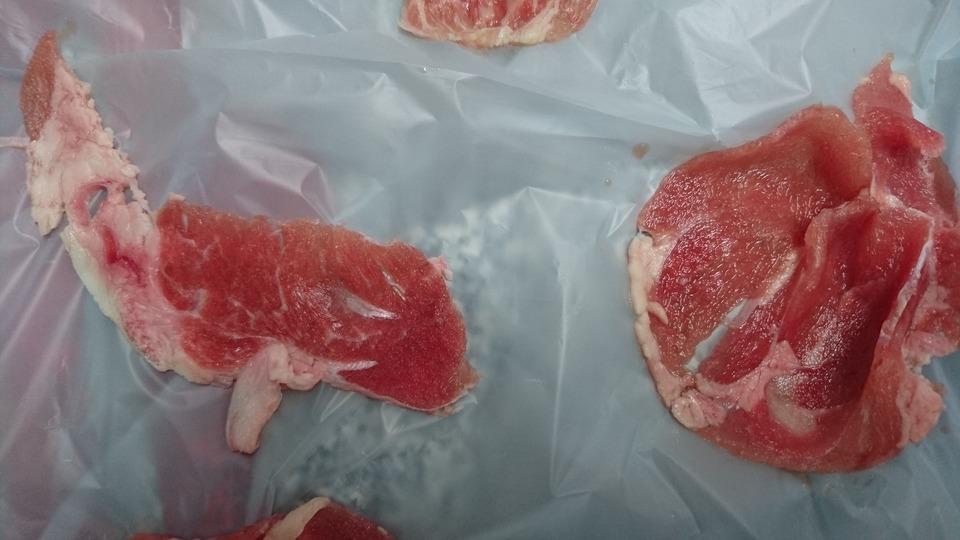restructured meat: (18, 48, 472, 430), (604, 92, 960, 471)
